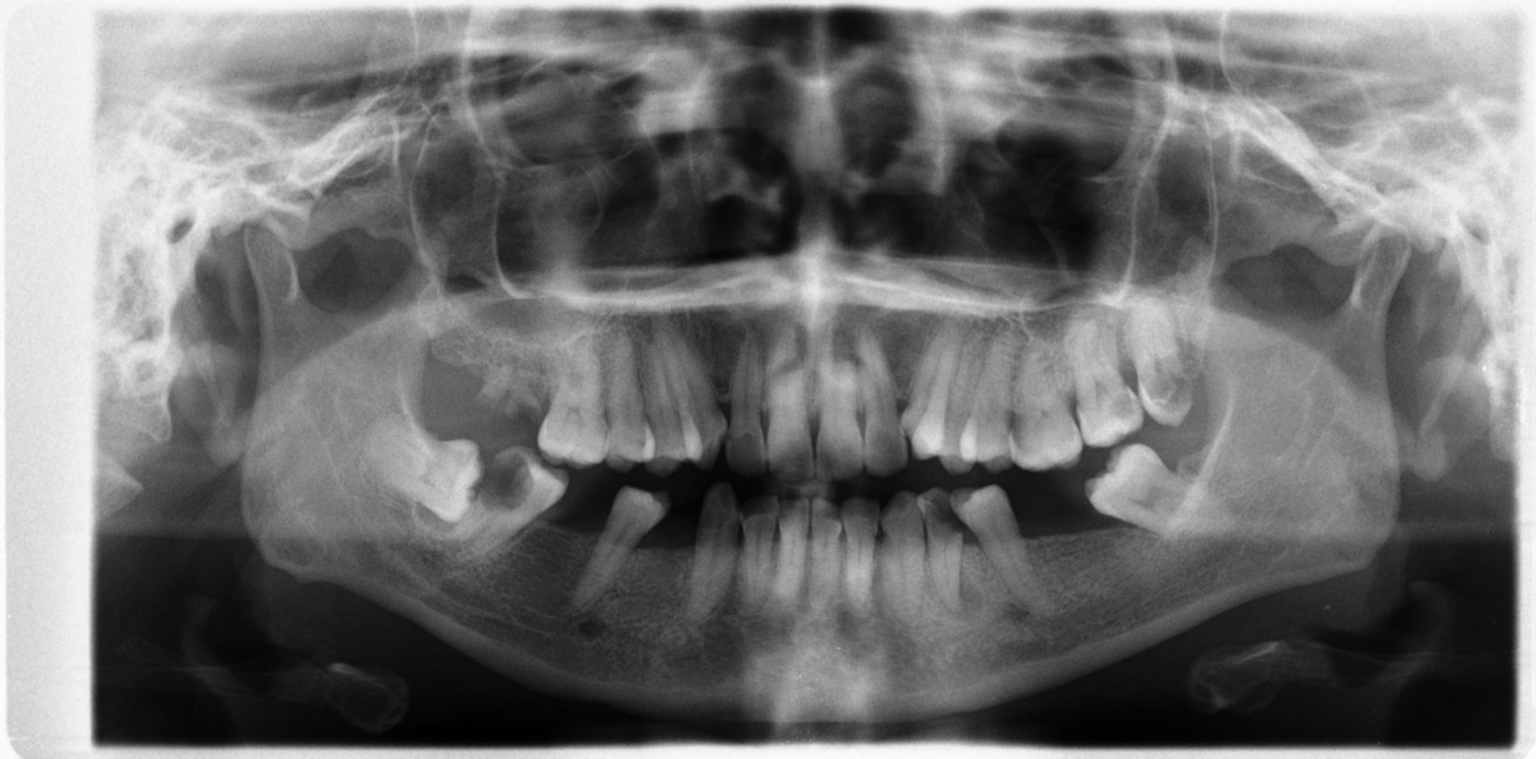Individual Tooth: (950, 486, 1055, 619), (450, 446, 568, 558), (1084, 444, 1226, 535), (569, 486, 669, 614), (654, 319, 727, 469), (911, 334, 986, 474), (372, 428, 481, 522), (1009, 334, 1081, 468), (897, 320, 963, 462), (1074, 325, 1146, 450), (641, 342, 707, 478), (538, 339, 608, 467), (678, 482, 741, 624), (959, 325, 1019, 471), (1130, 299, 1193, 428), (857, 324, 907, 477), (816, 325, 865, 481), (767, 328, 815, 482), (604, 333, 655, 469), (723, 332, 767, 476), (916, 488, 965, 612), (880, 491, 928, 616), (841, 498, 884, 600), (811, 498, 849, 605), (740, 495, 776, 603), (773, 500, 810, 603)
